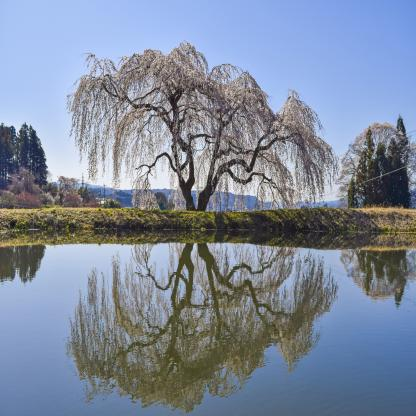ShidareZakura: (65, 39, 339, 211)
